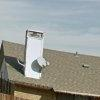Chimney: (19, 17, 50, 87)
